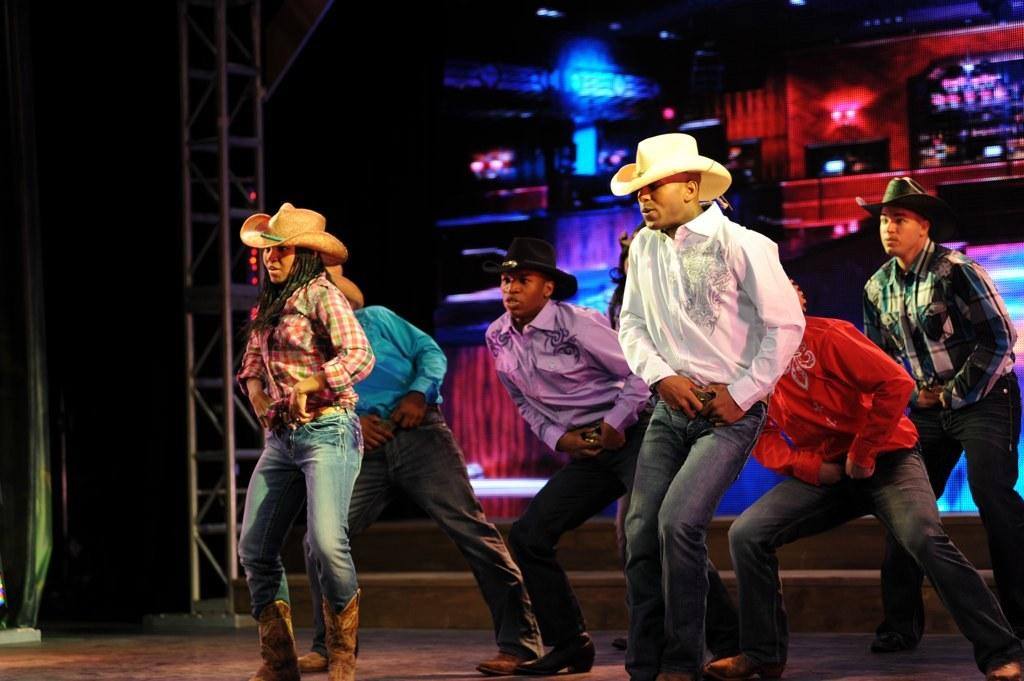Hat: (610, 134, 734, 200), (240, 203, 344, 260), (484, 238, 578, 300), (853, 174, 945, 228), (328, 260, 364, 306)
